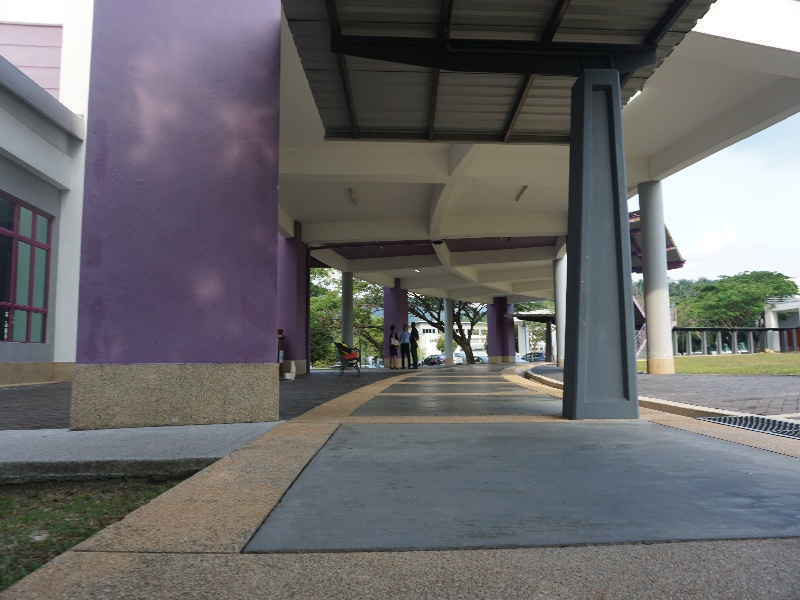Block D Pillar 1: (6, 3, 800, 520)
pillar: (84, 6, 283, 430), (562, 68, 633, 428), (282, 225, 311, 376), (482, 290, 522, 364), (337, 267, 366, 361), (438, 297, 457, 371)
